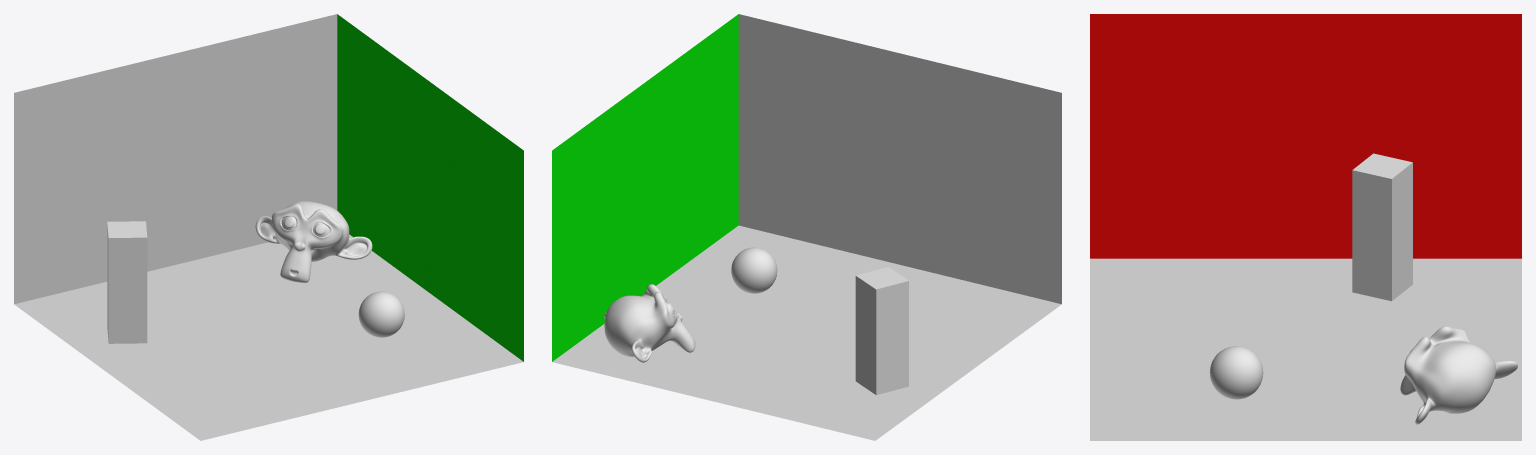
File: acg.gltf
3 views of the same model, side by side, from view 1: azimuth 30°, elevation 25°; view 2: azimuth 150°, elevation 25°; view 3: azimuth 270°, elevation 25° (orthographic). The views are drawn at different scales.
Parts seen in each view (by area): view 1: Box, Suzanne, Cube, Sphere; view 2: Box, Cube, Suzanne, Sphere; view 3: Box, Cube, Suzanne, Sphere.
Boxes of the visible parts, x1,y1,x2,y2 form: Box: (14, 14, 523, 440); Suzanne: (255, 201, 372, 282); Cube: (107, 221, 147, 343); Sphere: (358, 291, 404, 337); Box: (552, 14, 1061, 440); Cube: (855, 267, 908, 395); Suzanne: (604, 284, 695, 362); Sphere: (731, 247, 777, 293); Box: (1090, 14, 1521, 440); Cube: (1352, 153, 1412, 301); Suzanne: (1400, 326, 1517, 424); Sphere: (1209, 346, 1263, 399).
Bounding box in the file's own units: 3.2 × 2 × 3.2.
